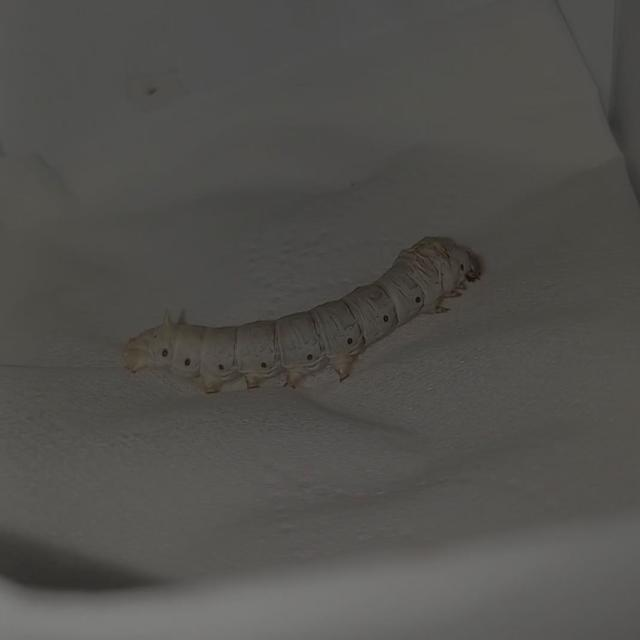Healthy: (110, 225, 492, 401)
